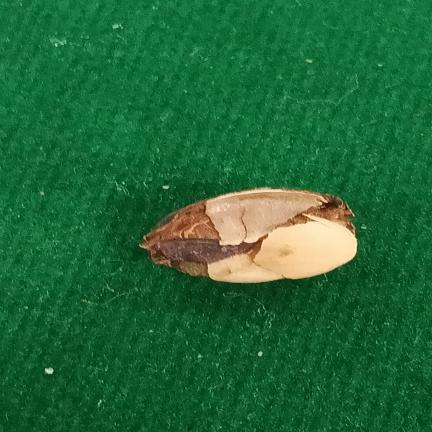husk: (140, 188, 357, 283)
